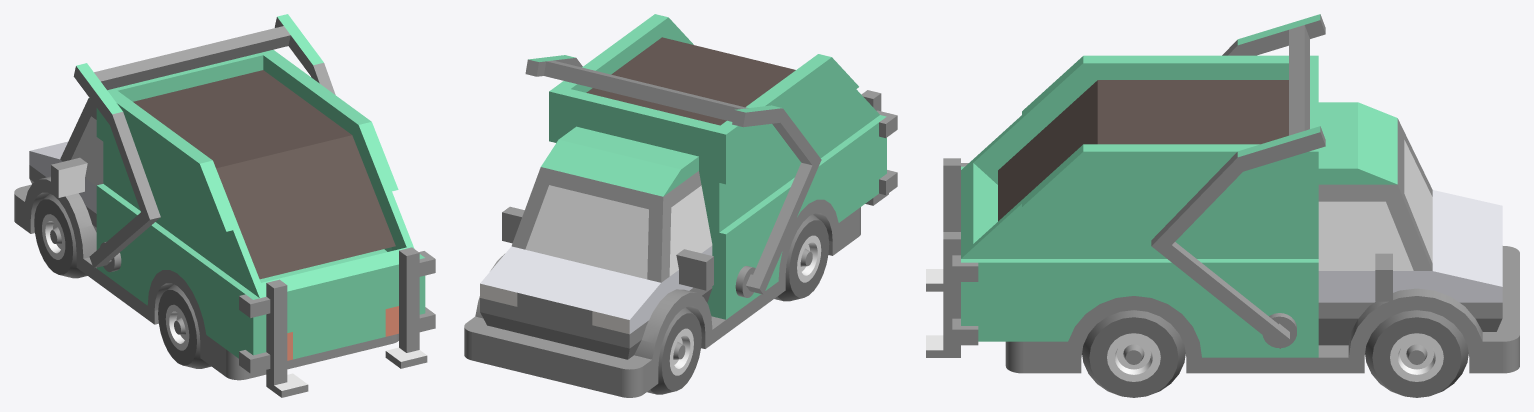
Rendered from truck.fbx.
3 renders of one model, left to right at view 1: azimuth 30°, elevation 25°; view 2: azimuth 150°, elevation 25°; view 3: azimuth 270°, elevation 25°, orthographic. The views are drawn at different scales.
Visible parts, largest first — view 1: body, body.001, arm, wheel_frontLeft, wheel_backLeft; view 2: body, arm, body.001, wheel_backLeft, wheel_frontLeft; view 3: body, body.001, arm, wheel_backRight, wheel_frontRight.
Boxes of the visible parts, x1,y1,x2,y2 form: body: (14, 49, 435, 397); body.001: (133, 70, 395, 279); arm: (73, 14, 335, 272); wheel_frontLeft: (34, 193, 87, 278); wheel_backLeft: (158, 284, 211, 368); body: (464, 14, 897, 397); arm: (525, 55, 821, 297); body.001: (586, 37, 795, 125); wheel_backLeft: (774, 214, 829, 301); wheel_frontLeft: (647, 307, 701, 394); body: (926, 55, 1519, 373); body.001: (998, 80, 1288, 221); arm: (1151, 14, 1325, 348); wheel_backRight: (1082, 310, 1185, 397); wheel_frontRight: (1365, 310, 1468, 397).
Bounding box in the file's own units: 160 × 179 × 340.
